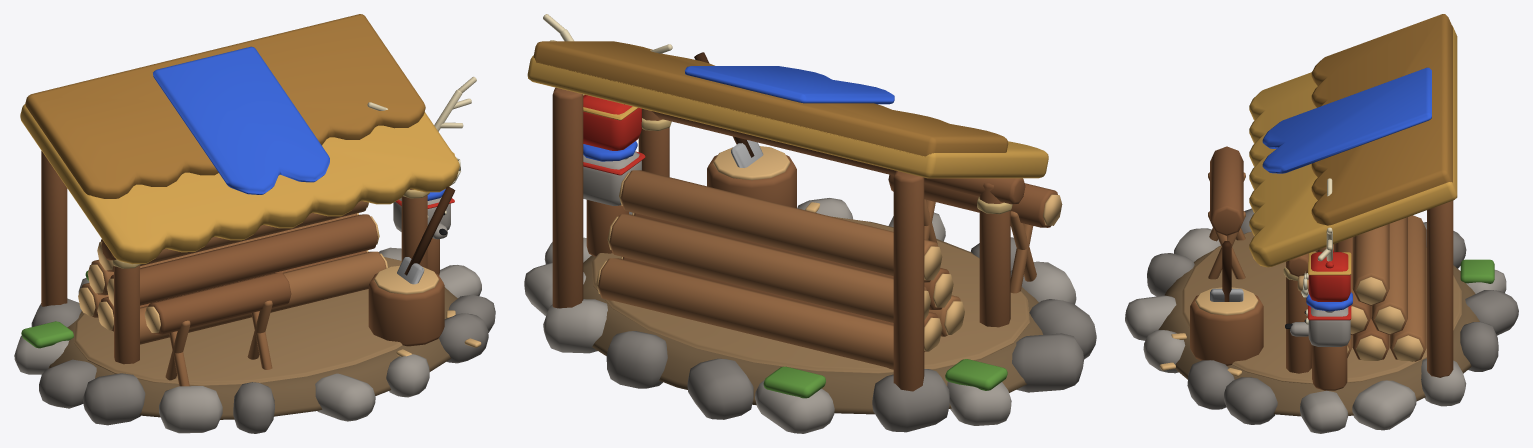
Rendered from Lumberyard.glb.
3 renders of one model, left to right at view 1: azimuth 30°, elevation 25°; view 2: azimuth 150°, elevation 25°; view 3: azimuth 270°, elevation 25°, orthographic. The views are drawn at different scales.
Parts seen in each view (by area): view 1: Lumberyard; view 2: Lumberyard; view 3: Lumberyard.
Part boxes in pixels (x1,y1,x2,y2): Lumberyard: (14,14,495,433); Lumberyard: (524,14,1096,433); Lumberyard: (1125,14,1518,433).
Bounding box in the file's own units: 3.23 × 1.78 × 2.57.
